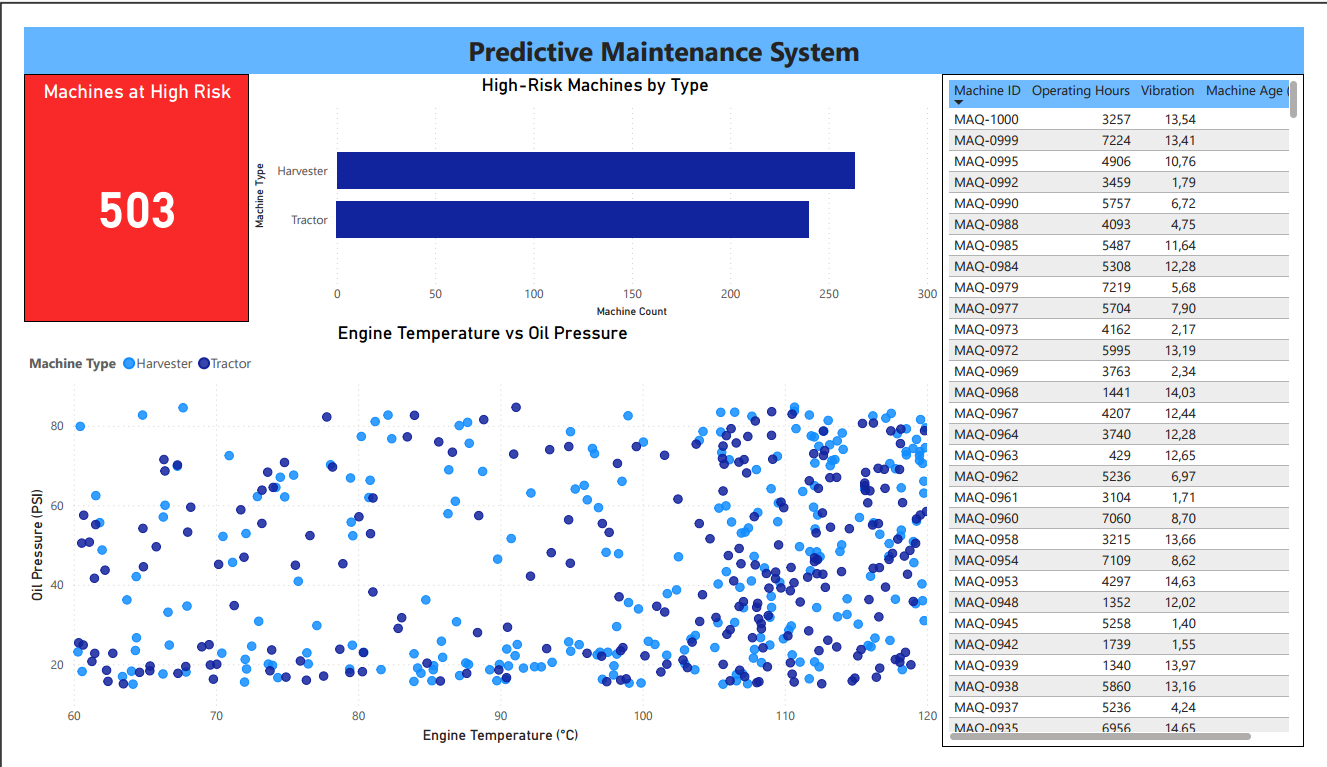

This screenshot's page, from the dashboard's own definition file:
{"tool":"powerbi","page":{"name":"Predictive Dashboard","canvas":[1280,720],"ordinal":0},"visuals":[{"type":"card","title":"Machines at High Risk","fields":{"Values":["CountNonNull(Sheet1.ID_Maquina)"]},"box":[0,47.2,225.1,248],"z":0},{"type":"textbox","box":[0,0,1280.3,46.7],"z":1000},{"type":"clusteredBarChart","title":"High-Risk Machines by Type","fields":{"Category":["Sheet1.Tipo"],"Y":["CountNonNull(Sheet1.ID_Maquina)"]},"box":[225.1,47.2,692.7,248],"z":2000},{"type":"scatterChart","title":"Engine Temperature vs Oil Pressure","fields":{"X":["Avg(Sheet1.Temperatura_Motor)"],"Y":["Avg(Sheet1.Presion_Aceite)"],"Category":["Sheet1.ID_Maquina"],"Series":["Sheet1.Tipo"]},"box":[0,295.1,917.8,425.9],"z":3000},{"type":"tableEx","fields":{"Values":["Sheet1.ID_Maquina","Sheet1.Horas_Uso","Sheet1.Vibracion","Sheet1.Antiguedad_Anios"]},"box":[918,46.7,362.3,673.8],"z":4000}]}

Visuals, with their boxes in screenshot pixels (x1, y1, x2, y2), scaled from the page's 1280x720 canvas onto the 1327x767 screenshot:
"Machines at High Risk" card: 0, 50, 233, 314
textbox: 0, 0, 1326, 50
"High-Risk Machines by Type" clusteredBarChart: 233, 50, 952, 314
"Engine Temperature vs Oil Pressure" scatterChart: 0, 314, 952, 766
tableEx - Sheet1.ID_Maquina x Sheet1.Horas_Uso: 952, 50, 1326, 766
